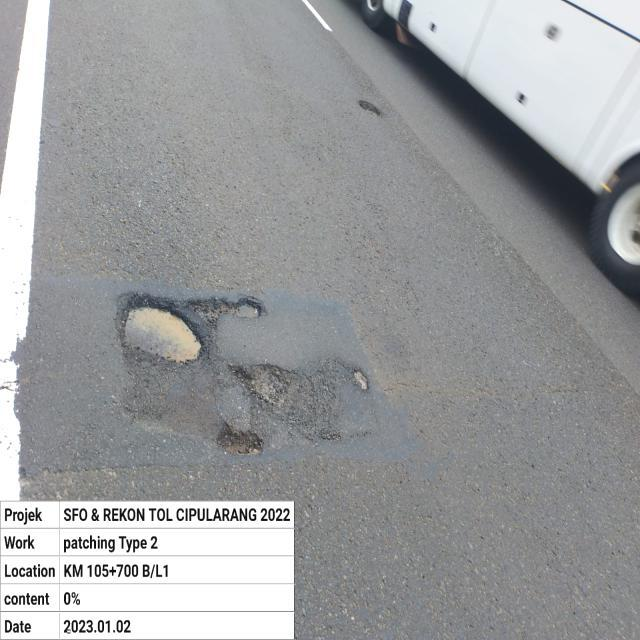Buraco: (110, 289, 272, 372), (222, 361, 302, 411), (212, 416, 267, 460), (346, 366, 374, 394), (354, 97, 386, 119)
